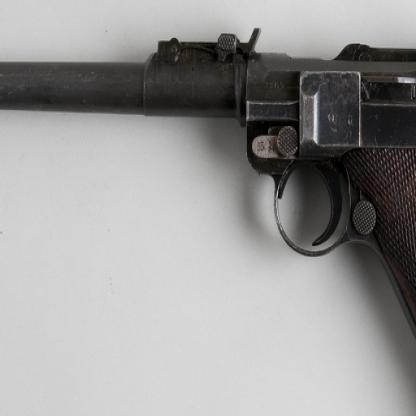gun: (0, 26, 415, 414)
